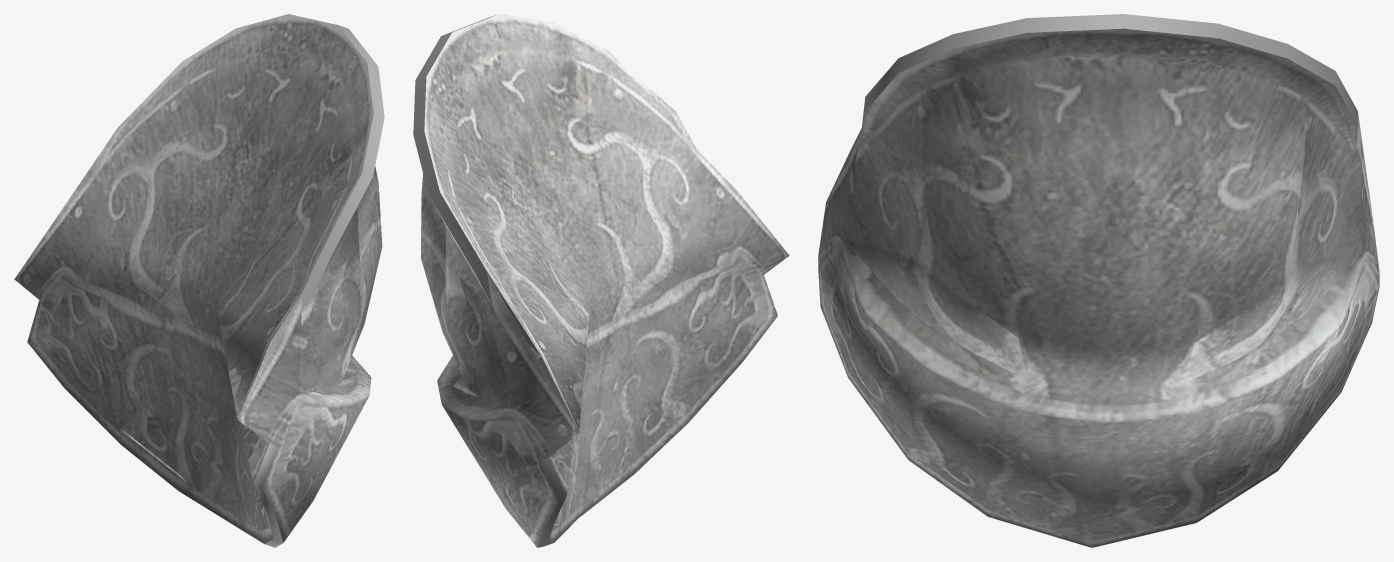
Rendered from A_HHF_LShoulder5.fbx.
3 renders of one model, left to right at view 1: azimuth 30°, elevation 25°; view 2: azimuth 150°, elevation 25°; view 3: azimuth 270°, elevation 25°, orthographic. The views are drawn at different scales.
Visible parts, largest first — view 1: A_HHF_LShoulder5, A_HHF_LShoulder5_L01, A_HHF_LShoulder5_L02; view 2: A_HHF_LShoulder5, A_HHF_LShoulder5_L01, A_HHF_LShoulder5_L02; view 3: A_HHF_LShoulder5, A_HHF_LShoulder5_L01, A_HHF_LShoulder5_L02.
Part boxes in pixels (<box>): A_HHF_LShoulder5: <box>14,14,384,542</box>; A_HHF_LShoulder5_L01: <box>15,128,381,547</box>; A_HHF_LShoulder5_L02: <box>22,148,355,481</box>; A_HHF_LShoulder5: <box>413,14,789,547</box>; A_HHF_LShoulder5_L01: <box>421,131,789,547</box>; A_HHF_LShoulder5_L02: <box>453,272,578,525</box>; A_HHF_LShoulder5: <box>818,14,1379,547</box>; A_HHF_LShoulder5_L01: <box>818,28,1379,383</box>; A_HHF_LShoulder5_L02: <box>826,113,1372,384</box>.
Size of the model in its own units: 12.72 by 24.33 by 20.75.
3 materials, 3 textured.
